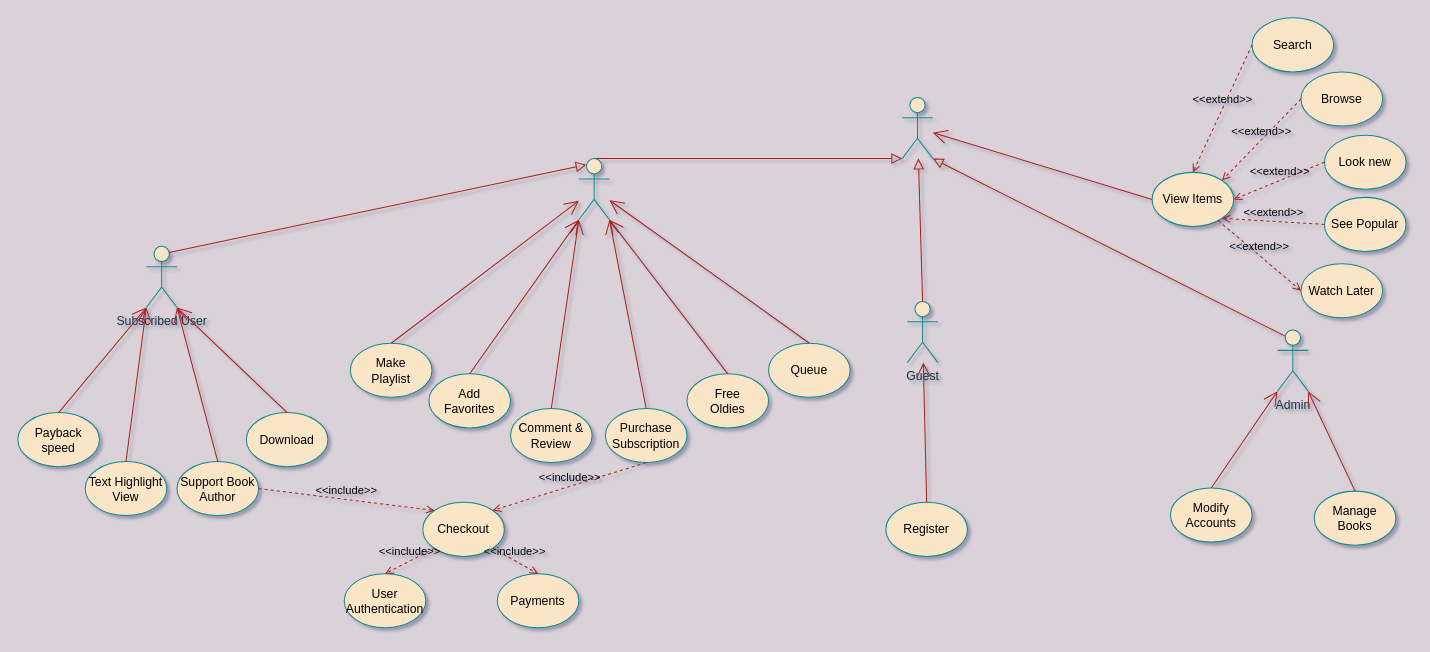
The diagram is 1430 pixels wide and 652 high, and some of its shapes have lost their labels. Each missing label, with the centre of its shape:
Reregistered User: point (593, 189)
User: point (917, 127)
